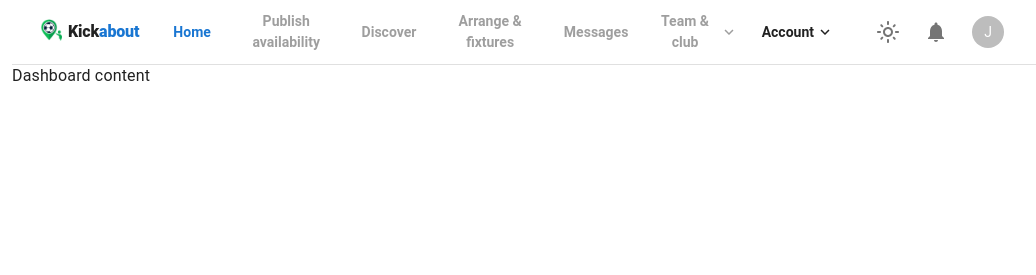
AppShell › navigates to the settings route via the Account menu, and exposes the other account destinations
Click the button "Account": point(798, 32) [752,16,844,48]
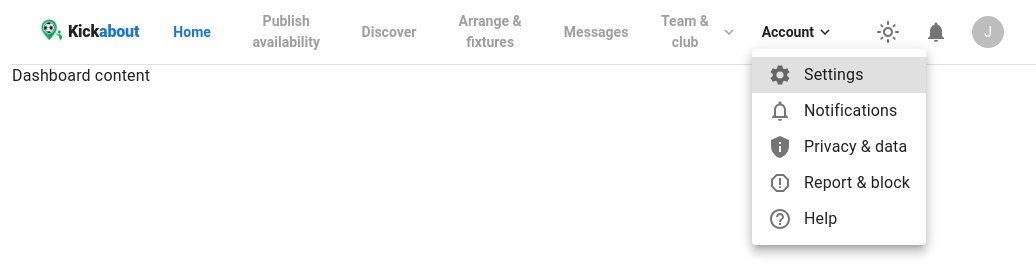
Result: the menu item "Notifications" is shown at [768,99,898,123]
Result: the menu item "Privacy & data" is shown at [768,135,907,159]
Result: the menu item "Report & block" is shown at [768,171,910,195]
Click the menu item "Settings": point(839, 75) [752,57,926,93]
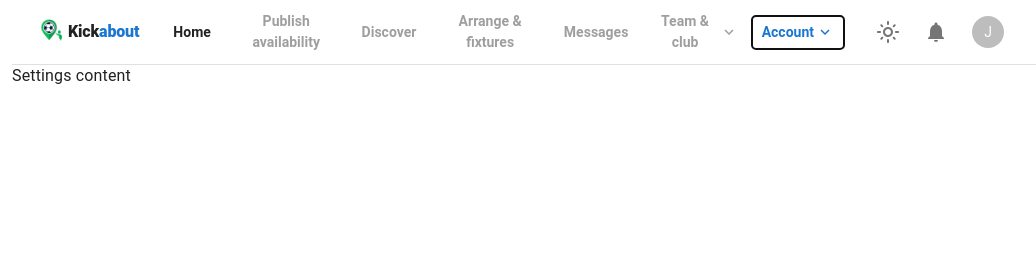
Result: the text "Settings content" is shown at [12,66,131,85]
